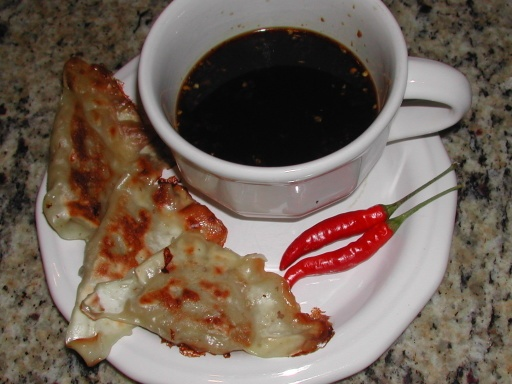background: (33, 32, 371, 220), (140, 15, 304, 100)
